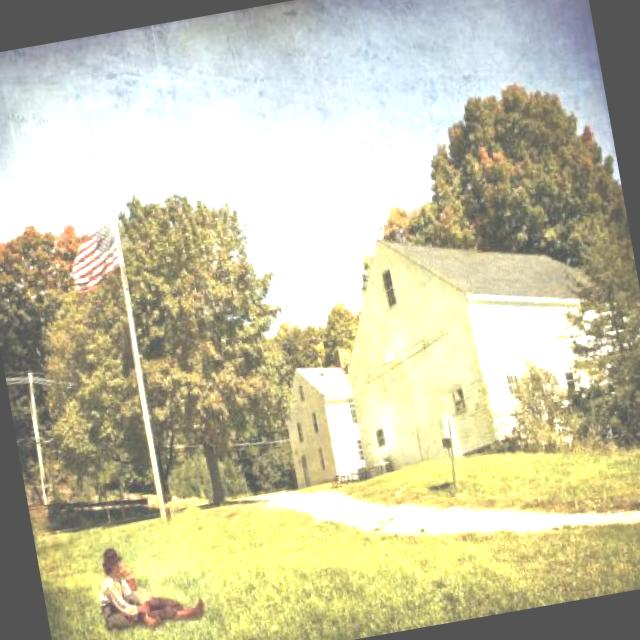Person: (90, 538, 162, 638), (120, 552, 208, 632)
